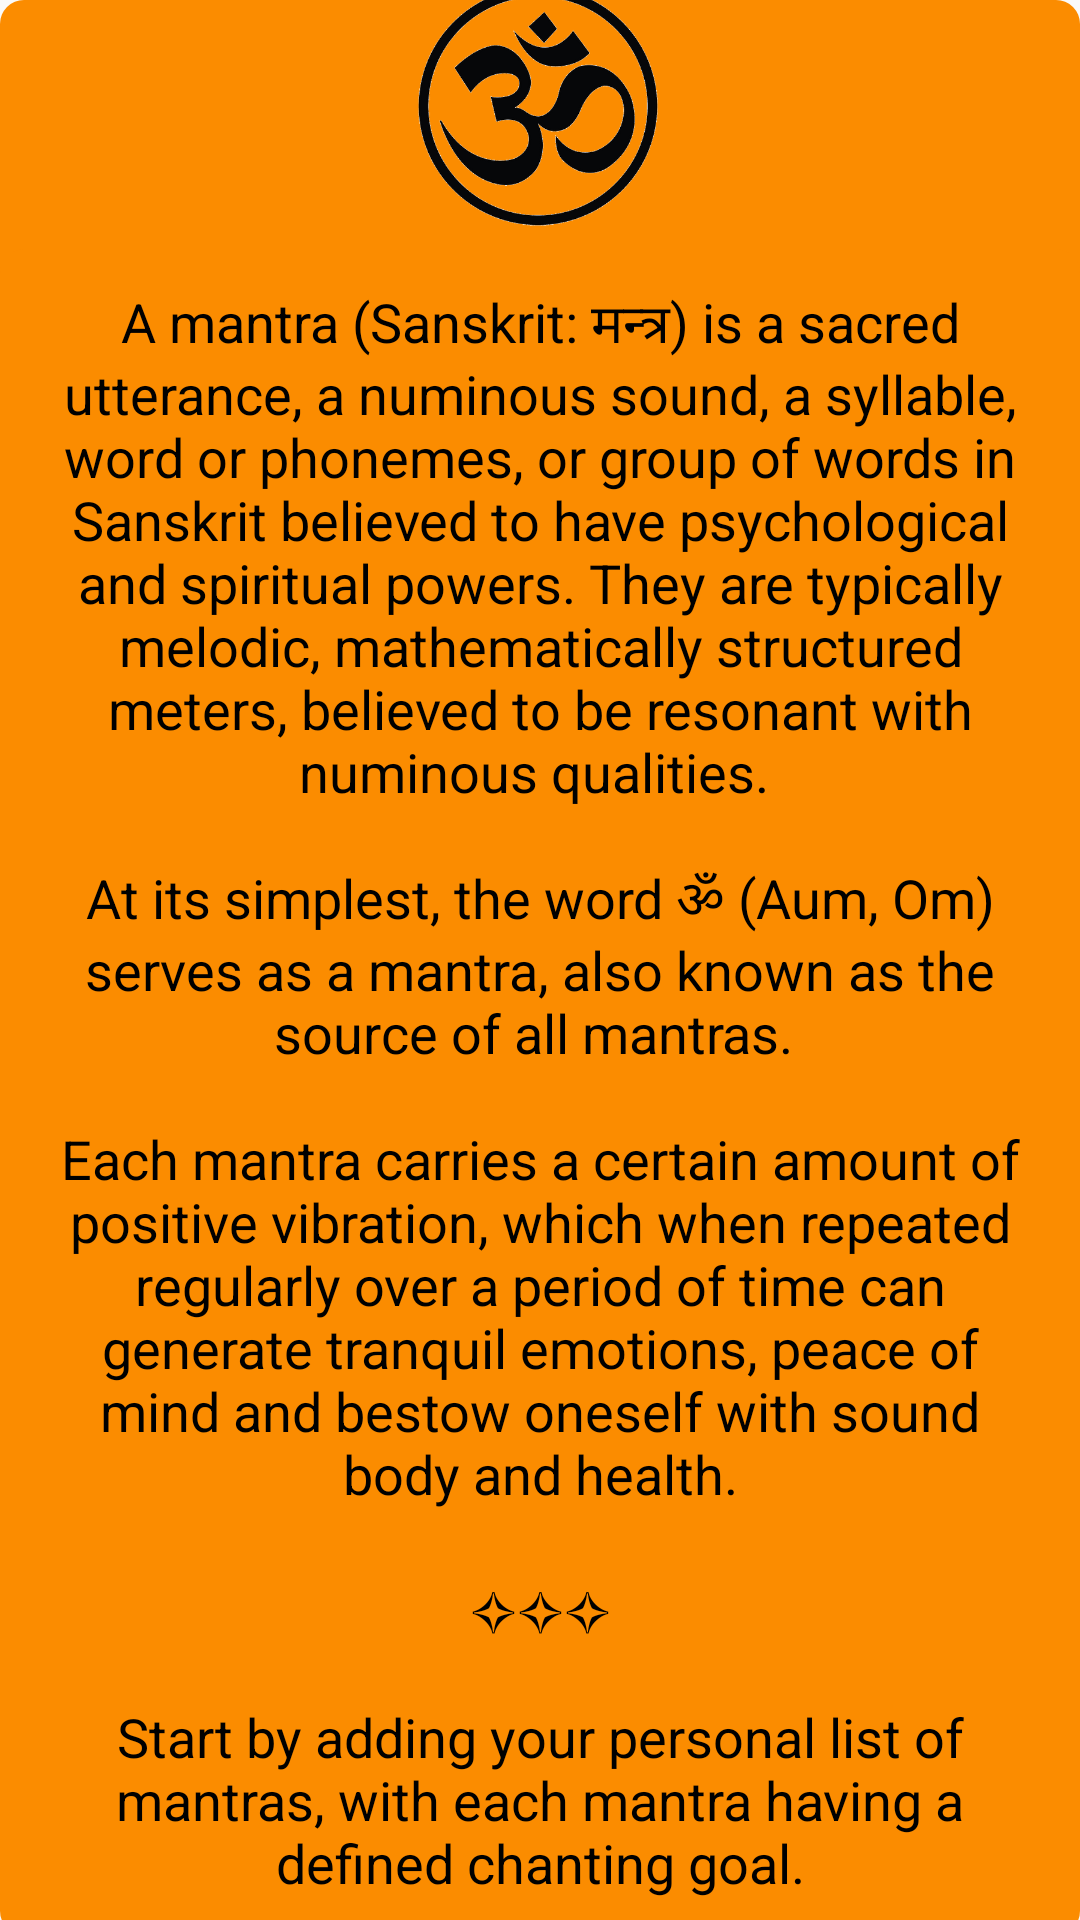

Icon bounding boxes for this 1080*1920 phone screenshot, format (x1, y1, x2, y2):
aum help: (418, 0, 658, 226)
